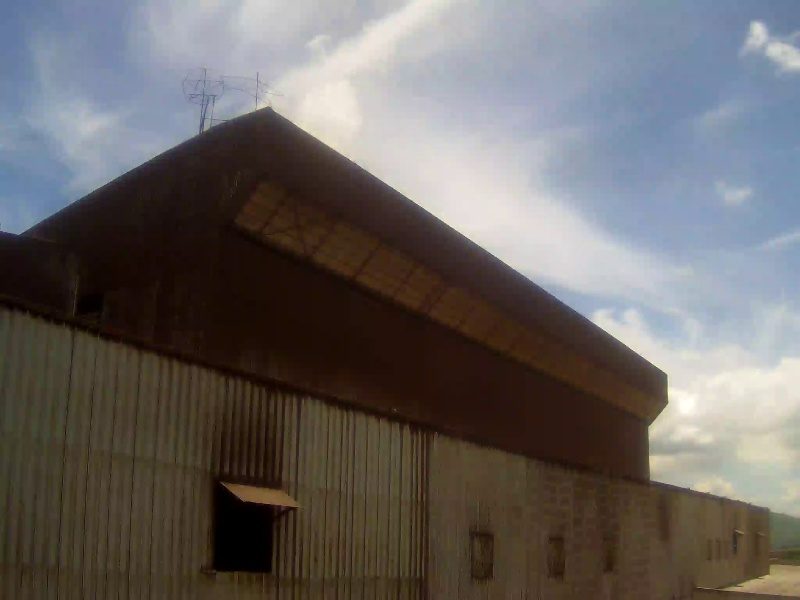bom: (381, 110, 745, 414), (634, 320, 800, 496)
ruim: (58, 46, 385, 159)
